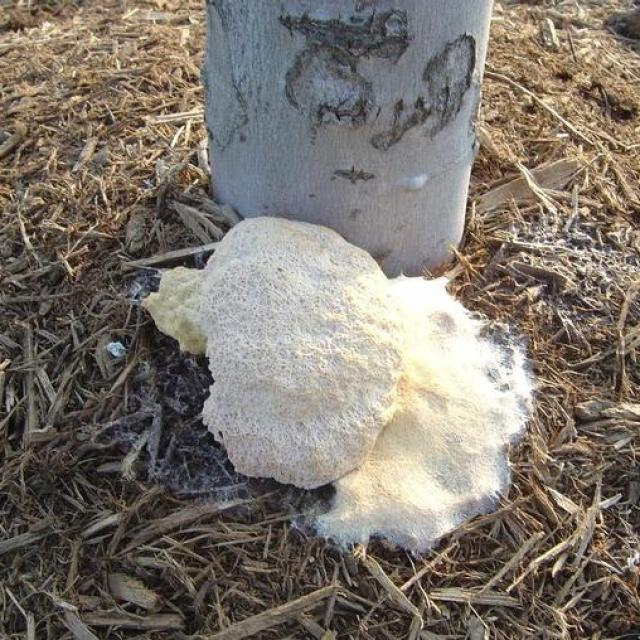Dog_vomit_slime_mold: (150, 206, 568, 557)
